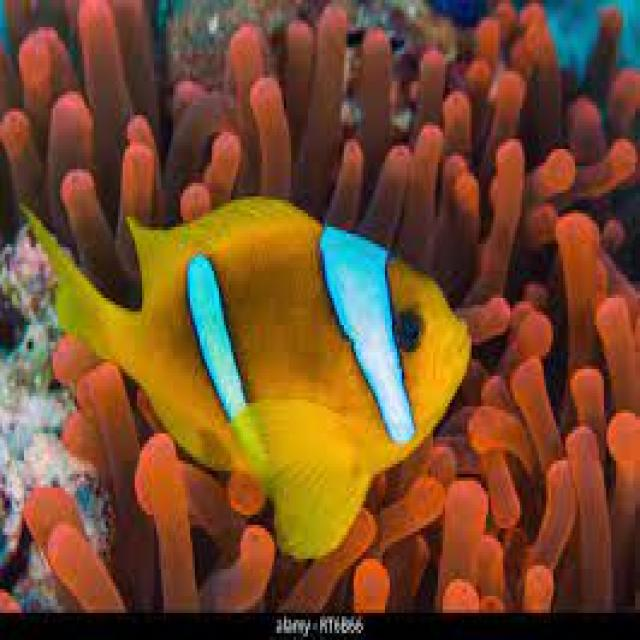Clownfish: (23, 197, 468, 556)
